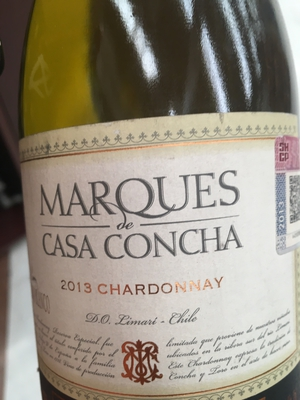marques de casa concha chardonnay: (17, 18, 300, 395)
